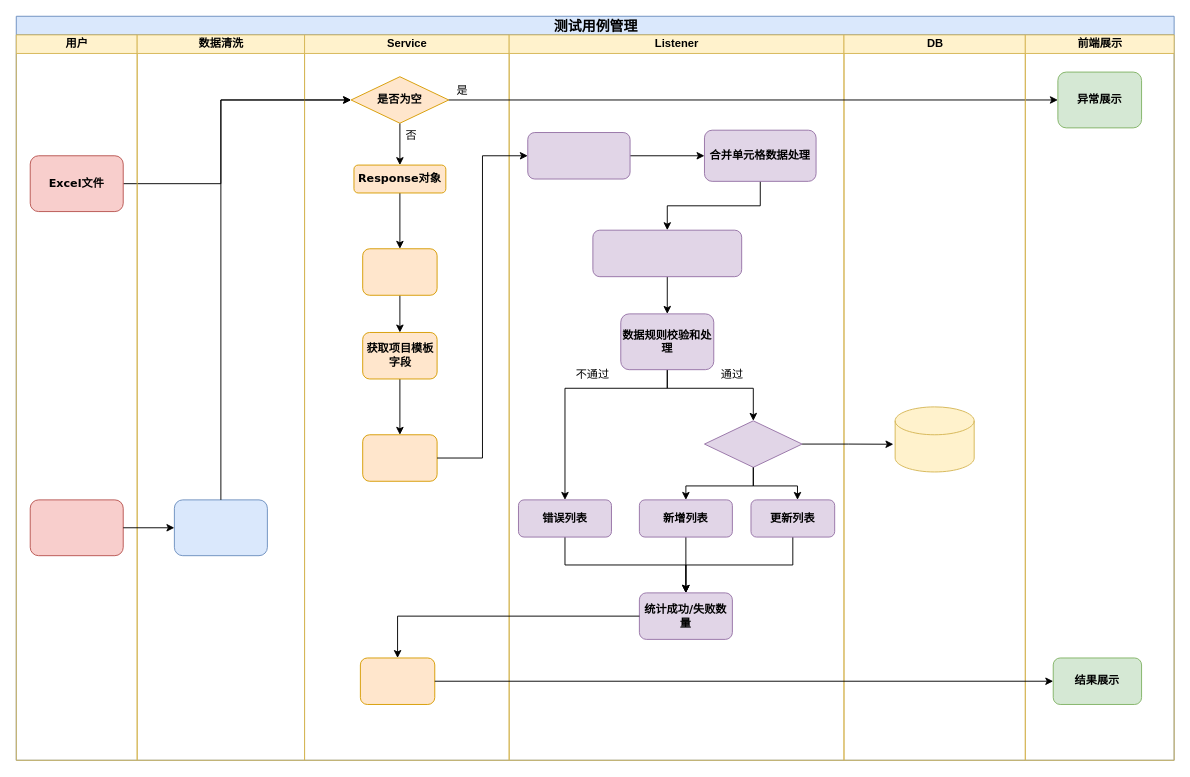
Some shapes in this 1190 by 777 pixel diagram are drawn without their labels. The centre of each missing label's shape, as x and y in pixels:
Mysql: [934,439]
创建监听器对象: [399,457]
历史Excel文件: [76,527]
数据清洗脚本: [220,527]
新增/更新: [753,443]
结果返回: [397,680]
获取项目默认版本ID: [399,271]
解析Excel数据: [578,155]
转换为FunctionnalCaseData对象: [667,253]
